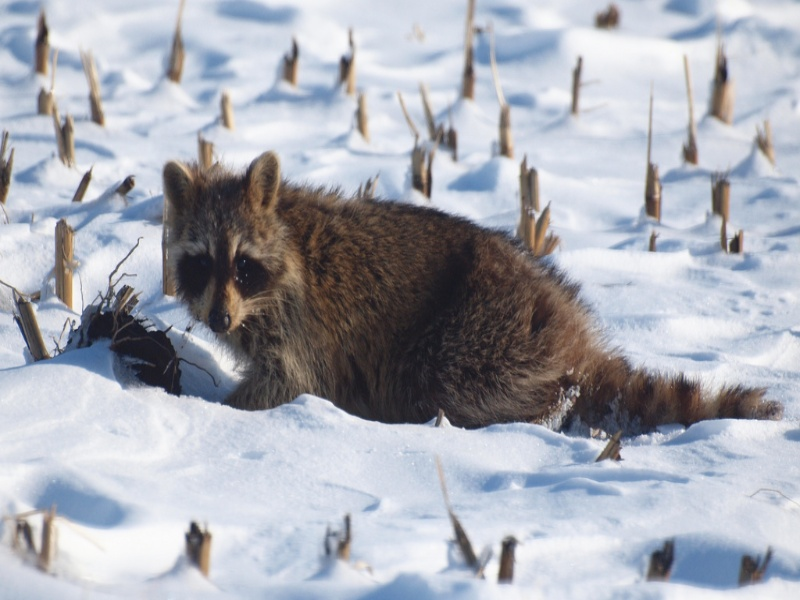raccoon: (159, 156, 779, 441)
